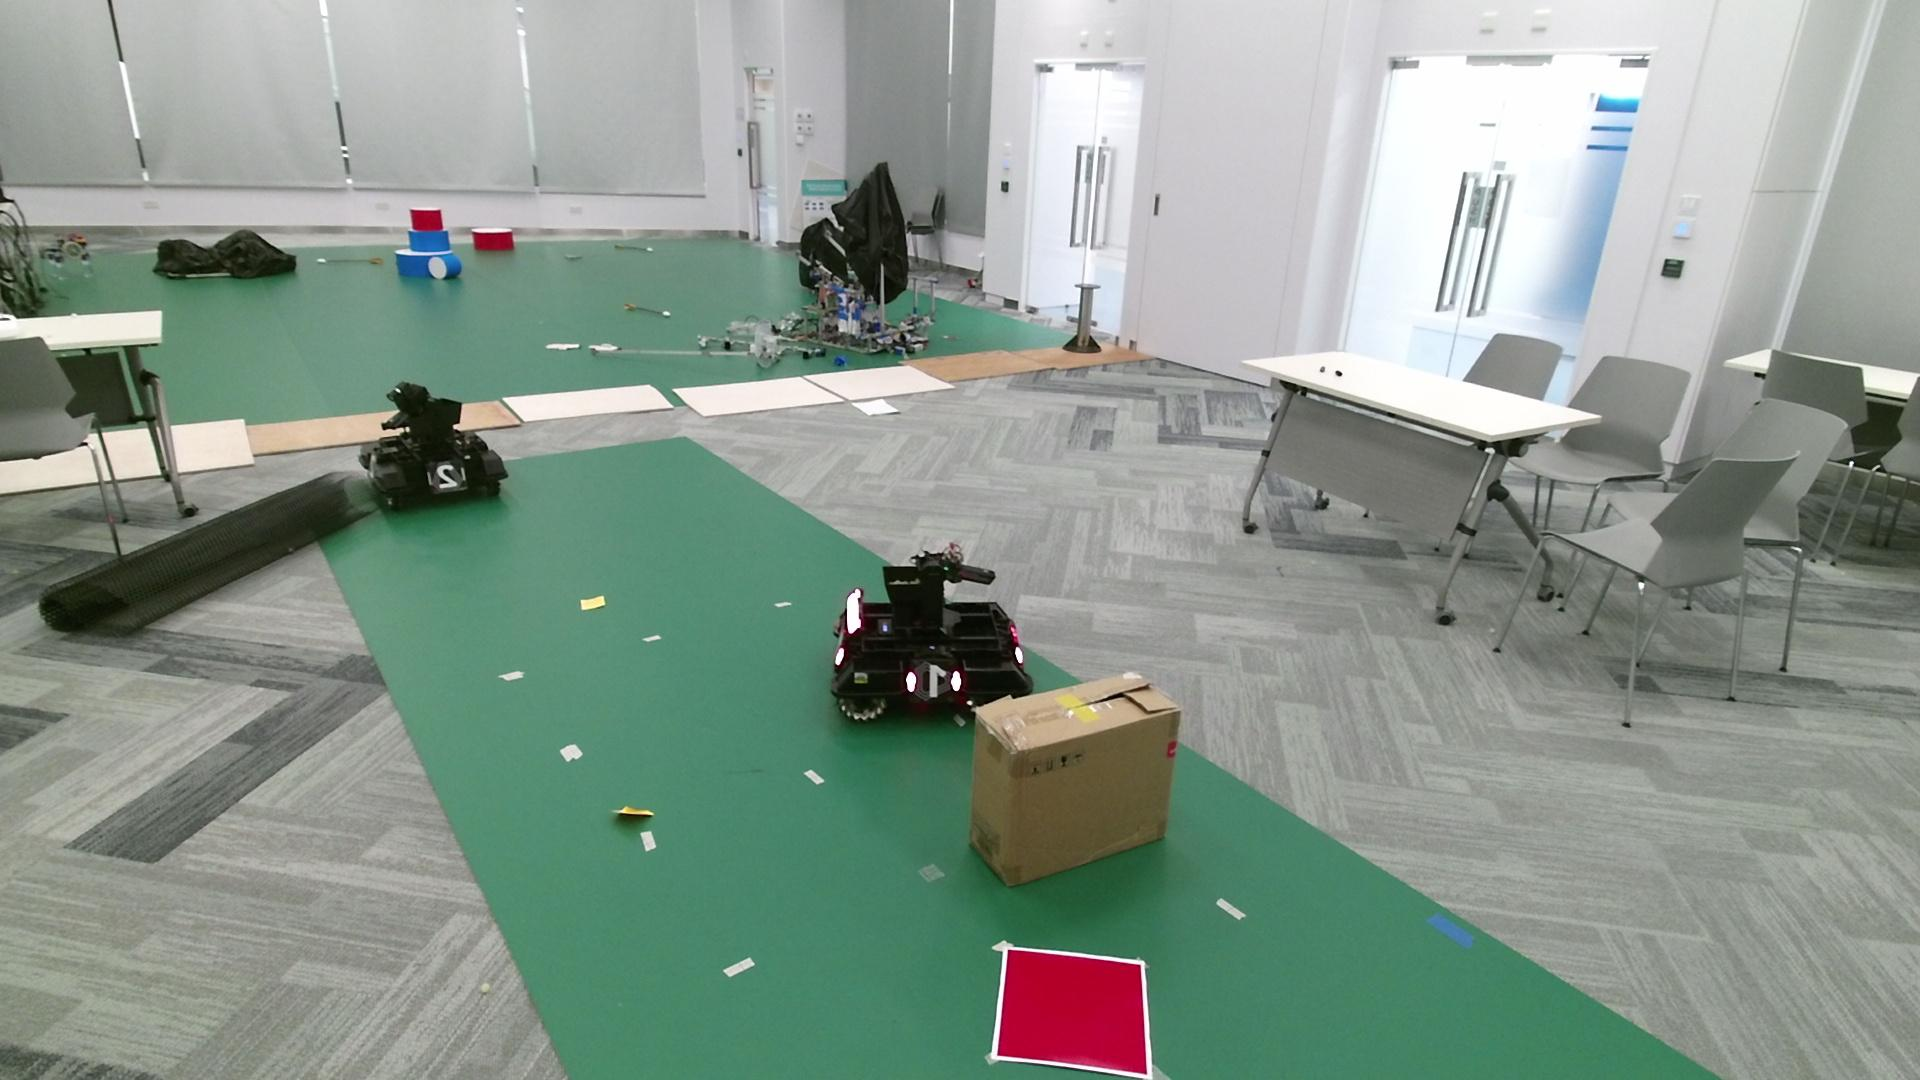robot: (832, 542, 1034, 723), (357, 381, 509, 509)
